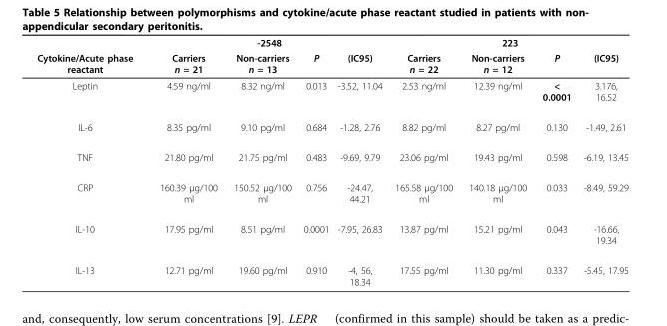table: (36, 36, 627, 286)
table column: (36, 36, 145, 286), (145, 36, 225, 286), (387, 36, 460, 286), (460, 36, 533, 286), (225, 36, 296, 286), (332, 36, 387, 286), (576, 36, 627, 286), (533, 36, 576, 286), (296, 36, 332, 286)
table column header: (36, 36, 627, 77)
table row: (36, 172, 627, 213), (36, 213, 627, 254), (36, 77, 627, 111), (36, 254, 627, 286), (36, 141, 627, 172), (36, 111, 627, 141), (36, 49, 627, 77), (36, 36, 627, 49)
table spanning cell: (36, 36, 145, 77), (145, 36, 387, 49), (387, 36, 627, 49)
